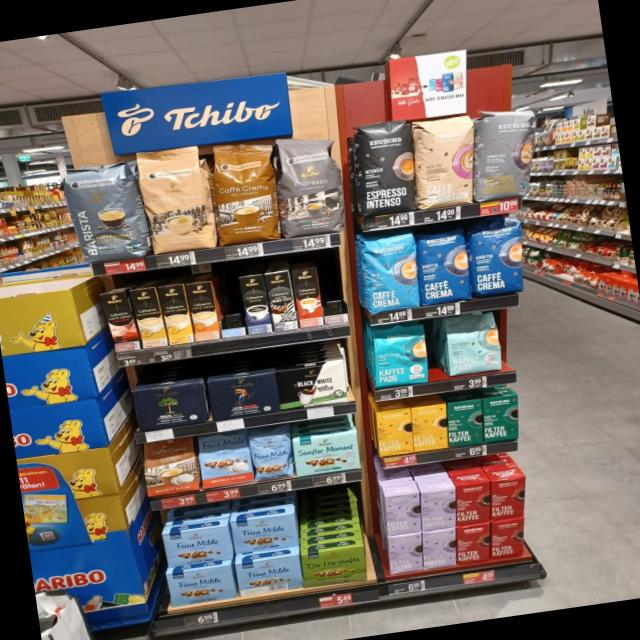BM Gemahlen: (129, 378, 212, 434)
BW Gemahlen: (275, 360, 353, 414)
Barista CC: (56, 156, 154, 272)
CC Mild: (132, 140, 224, 260)
CC Vollmundig: (138, 436, 204, 500)
CC Vollmundig 36 Pads: (205, 134, 288, 250)
Empty Shelf: (317, 262, 350, 327), (213, 278, 248, 338)
Espresso Aromatisch: (268, 128, 349, 242)
FM 36 Pads: (194, 430, 256, 490)
FM Bohne: (246, 426, 296, 482)
FM Gemahlen: (159, 523, 234, 569), (164, 562, 238, 608), (233, 552, 306, 598), (228, 511, 300, 556)
Herzhatfe Mundig: (298, 544, 370, 590)
LG Gemahlen: (202, 369, 284, 423)
SM Gemahlen: (290, 428, 363, 478)
Simo CC Colombia: (99, 289, 144, 352)
Simo CCMild bigpack: (156, 282, 196, 347)
Simo CCVollmundig bigpack: (184, 280, 223, 343)
Simo Decaff: (127, 286, 170, 351)
Simo Es Elegant: (289, 264, 327, 330)
Simo Kaffee BW: (264, 269, 301, 334)
Simo Kaffee Kraft: (238, 273, 275, 335)
